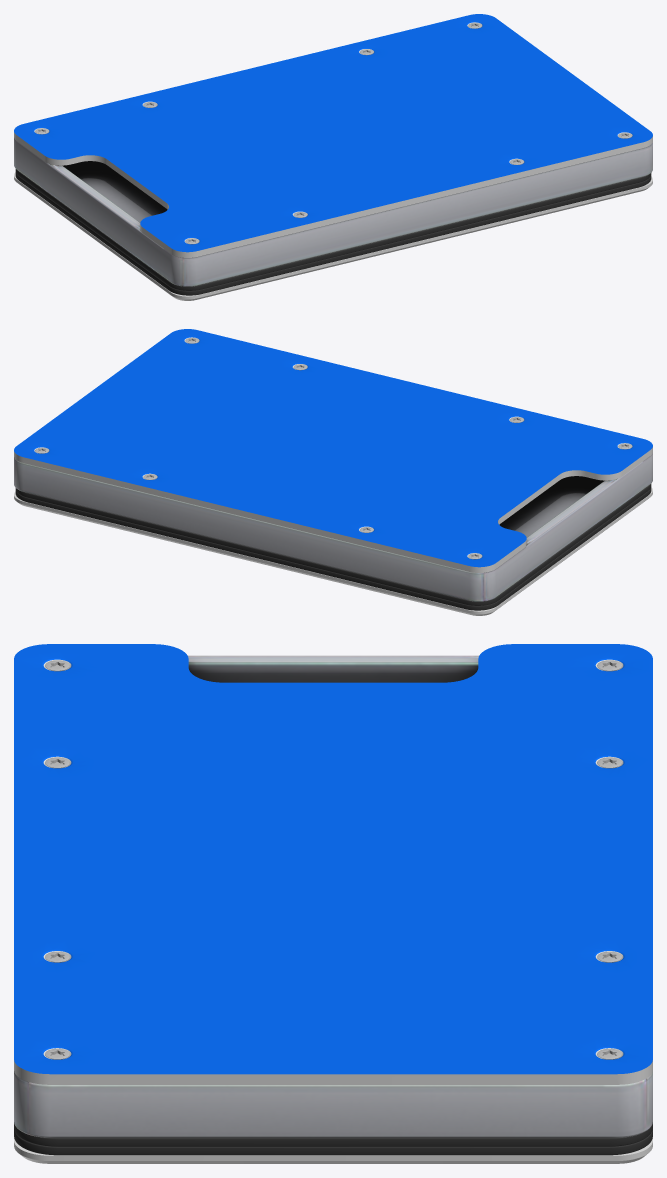
File: wallet.glb
The picture shows the model from 3 angles, top to bottom: view 1: azimuth 30°, elevation 25°; view 2: azimuth 150°, elevation 25°; view 3: azimuth 270°, elevation 25°; orthographic projection. The views are drawn at different scales.
Parts seen in each view (by area): view 1: Geldboerse_a-Aluminum_-_Brushed_Rad_-_Texture, Geldboerse_a-/obj/matnet1/ACRYL.002, Geldboerse_a-/obj/matnet1/CHROME.002, Geldboerse_a-/obj/matnet1/Karte.002, Geldboerse_a-/obj/matnet1/SCHRAUBEN.002; view 2: Geldboerse_a-Aluminum_-_Brushed_Rad_-_Texture, Geldboerse_a-/obj/matnet1/ACRYL.002, Geldboerse_a-/obj/matnet1/CHROME.002, Geldboerse_a-/obj/matnet1/Karte.002, Geldboerse_a-/obj/matnet1/SCHRAUBEN.002; view 3: Geldboerse_a-Aluminum_-_Brushed_Rad_-_Texture, Geldboerse_a-/obj/matnet1/ACRYL.002, Geldboerse_a-/obj/matnet1/CHROME.002, Geldboerse_a-/obj/matnet1/Karte.002, Geldboerse_a-/obj/matnet1/SCHRAUBEN.002.
Boxes of the visible parts, x1,y1,x2,y2 form: Geldboerse_a-Aluminum_-_Brushed_Rad_-_Texture: (14, 14, 652, 252); Geldboerse_a-/obj/matnet1/ACRYL.002: (14, 138, 652, 286); Geldboerse_a-/obj/matnet1/CHROME.002: (14, 22, 652, 300); Geldboerse_a-/obj/matnet1/Karte.002: (15, 169, 651, 295); Geldboerse_a-/obj/matnet1/SCHRAUBEN.002: (35, 22, 631, 244); Geldboerse_a-Aluminum_-_Brushed_Rad_-_Texture: (14, 329, 652, 567); Geldboerse_a-/obj/matnet1/ACRYL.002: (14, 453, 652, 601); Geldboerse_a-/obj/matnet1/CHROME.002: (14, 337, 652, 615); Geldboerse_a-/obj/matnet1/Karte.002: (15, 484, 651, 610); Geldboerse_a-/obj/matnet1/SCHRAUBEN.002: (35, 337, 631, 559); Geldboerse_a-Aluminum_-_Brushed_Rad_-_Texture: (14, 644, 652, 1074); Geldboerse_a-/obj/matnet1/ACRYL.002: (14, 655, 652, 1137); Geldboerse_a-/obj/matnet1/CHROME.002: (14, 659, 652, 1163); Geldboerse_a-/obj/matnet1/Karte.002: (14, 1122, 652, 1155); Geldboerse_a-/obj/matnet1/SCHRAUBEN.002: (45, 660, 621, 1059).
Bounding box in the file's own units: 88.91 × 8.89 × 55.83.
5 materials, 1 textured.
